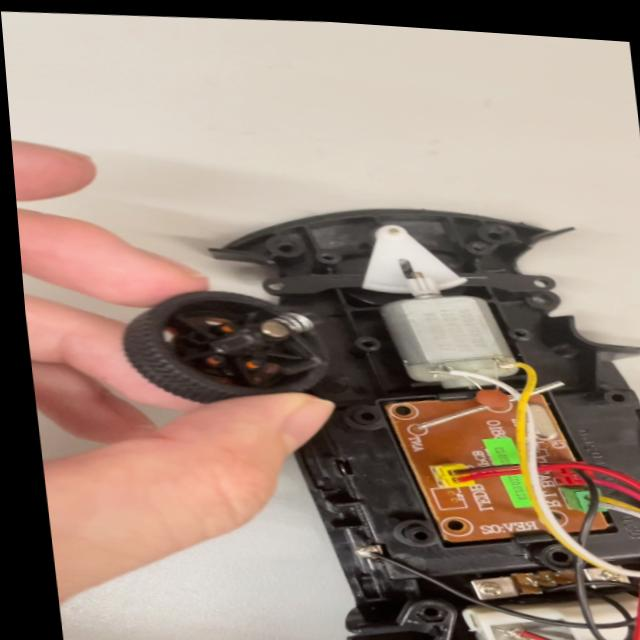wheel: (129, 279, 333, 418)
